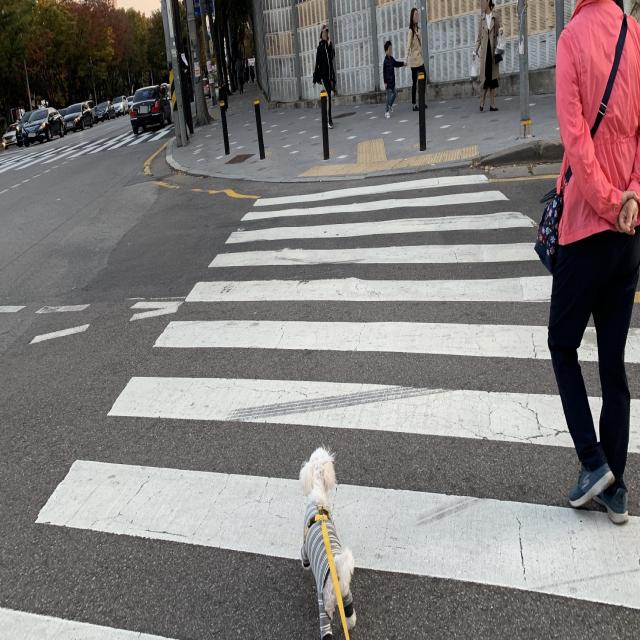횡단보도: (0, 178, 640, 639), (0, 117, 182, 175)
